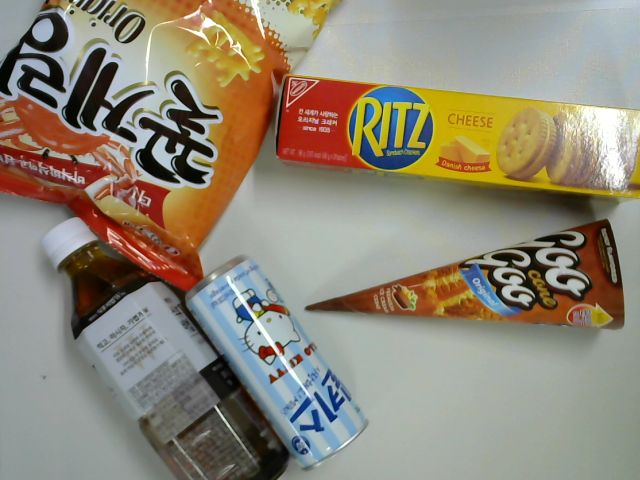Crabrang: (1, 1, 335, 292)
GooGoo_Cone_CVS: (303, 219, 627, 332)
Milkies_250ml: (182, 251, 372, 472)
Post-meal_recipe_W_tea_500ml: (39, 216, 292, 480)
Ritz_Sand_Cracker: (270, 75, 640, 205)
